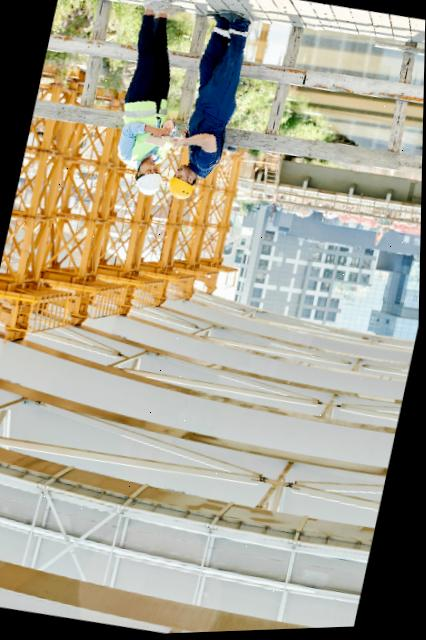helmet: (132, 170, 164, 201), (166, 176, 199, 206)
vest: (121, 97, 177, 172)
